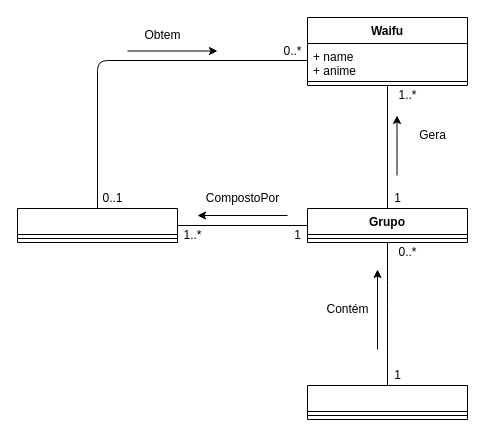
Some shapes in this 485 by 437 pixel diagram are drawn without their labels. Each missing label, with the box of its shape:
Bot: (306, 384, 468, 420)
Usuario: (16, 208, 178, 242)
